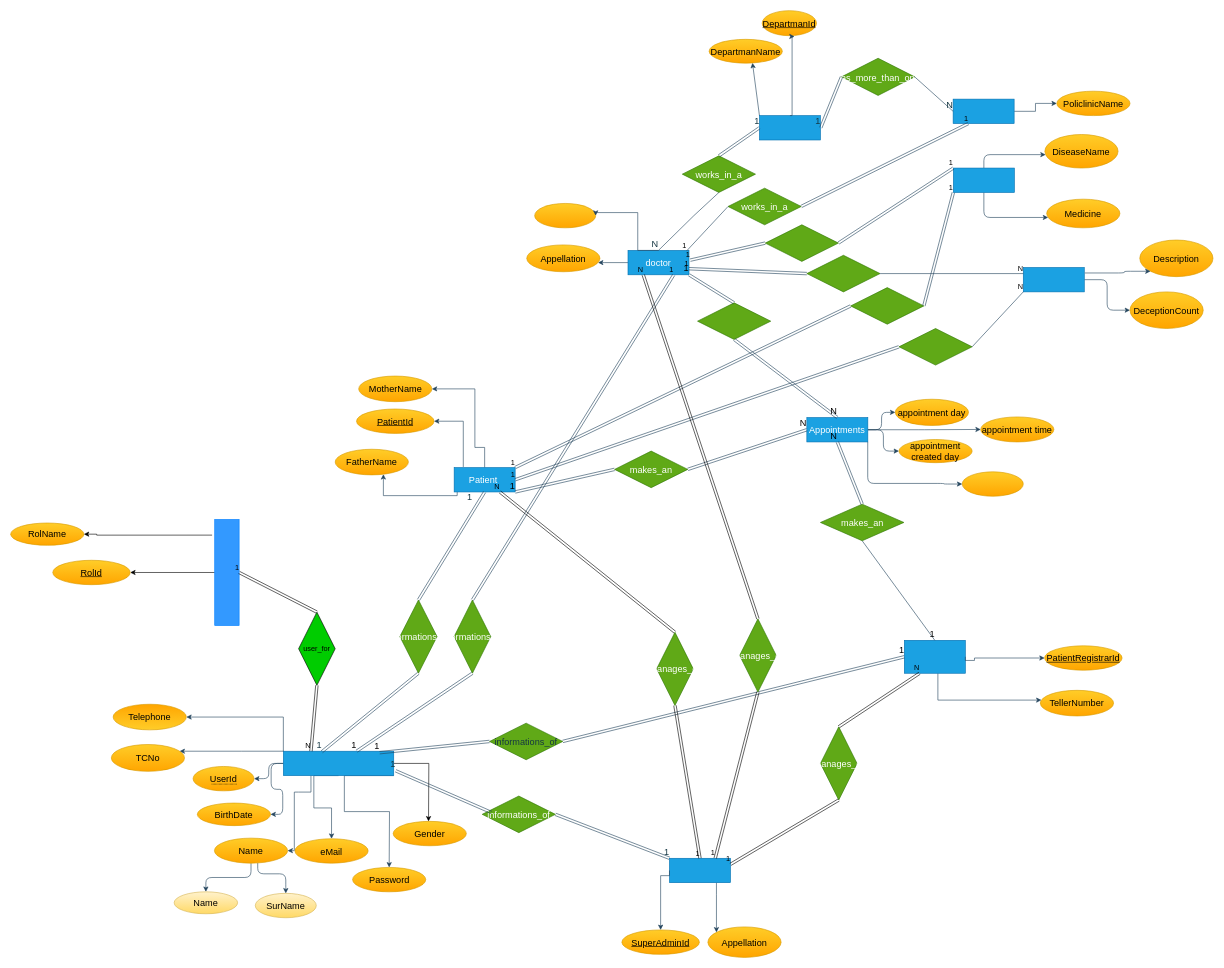
The diagram is 1224 pixels wide and 968 high, and some of its shapes have lost their labels. The shapes that lost their labels are listed below. From the top down, each one's centre as x and y in pixels, then its label:
[789,127]: Department
[983,111]: Policlinic
[983,179]: Prescribe
[565,215]: DoktorId
[801,242]: writes
[843,273]: counter
[1053,279]: BlackList
[734,320]: look_at_mutiple
[887,305]: taken_by
[935,346]: count
[992,483]: appointmentsId
[226,572]: Rol
[934,656]: PatientRegistrar
[338,763]: User
[699,870]: SuperAdmin
